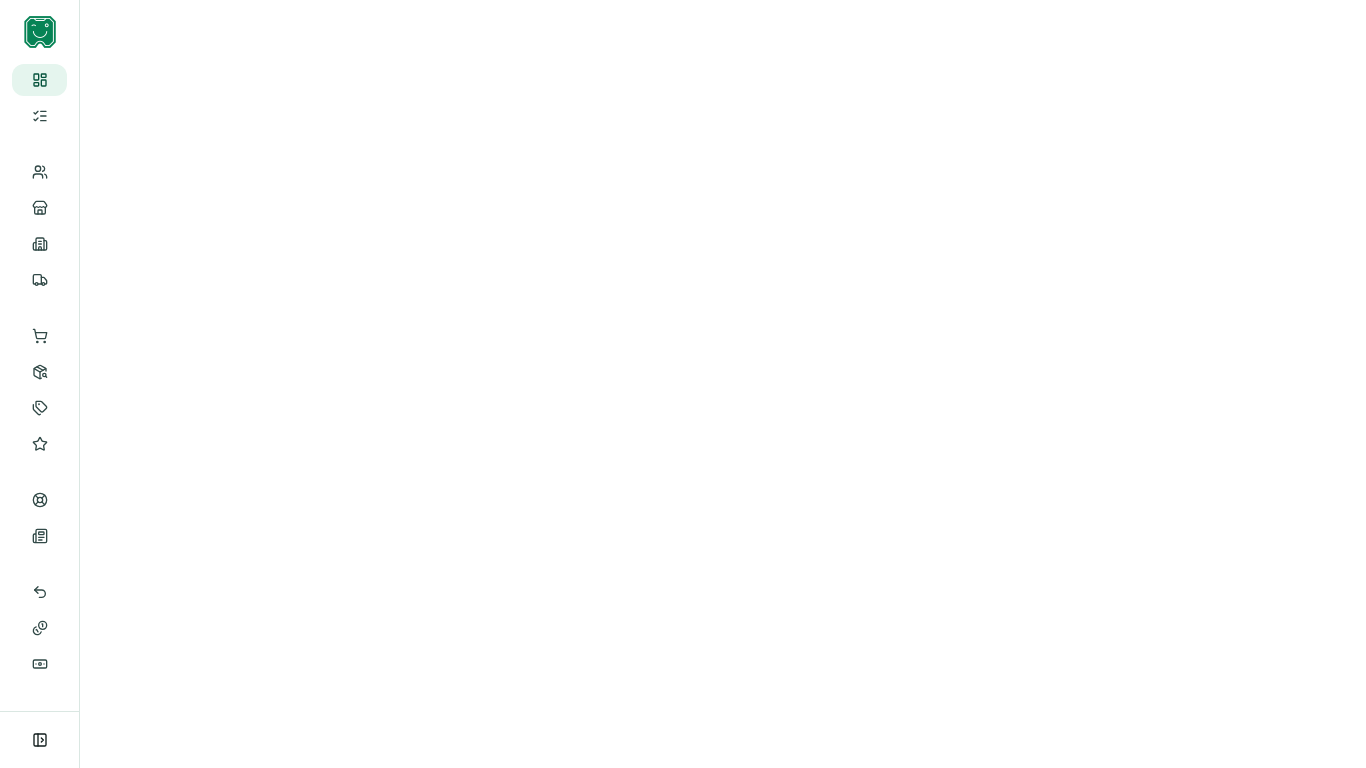
the collapsed rail › shows only the permitted children in the flyout
Hover over the link named "Money" at point(40, 664), box [32, 656, 48, 672]
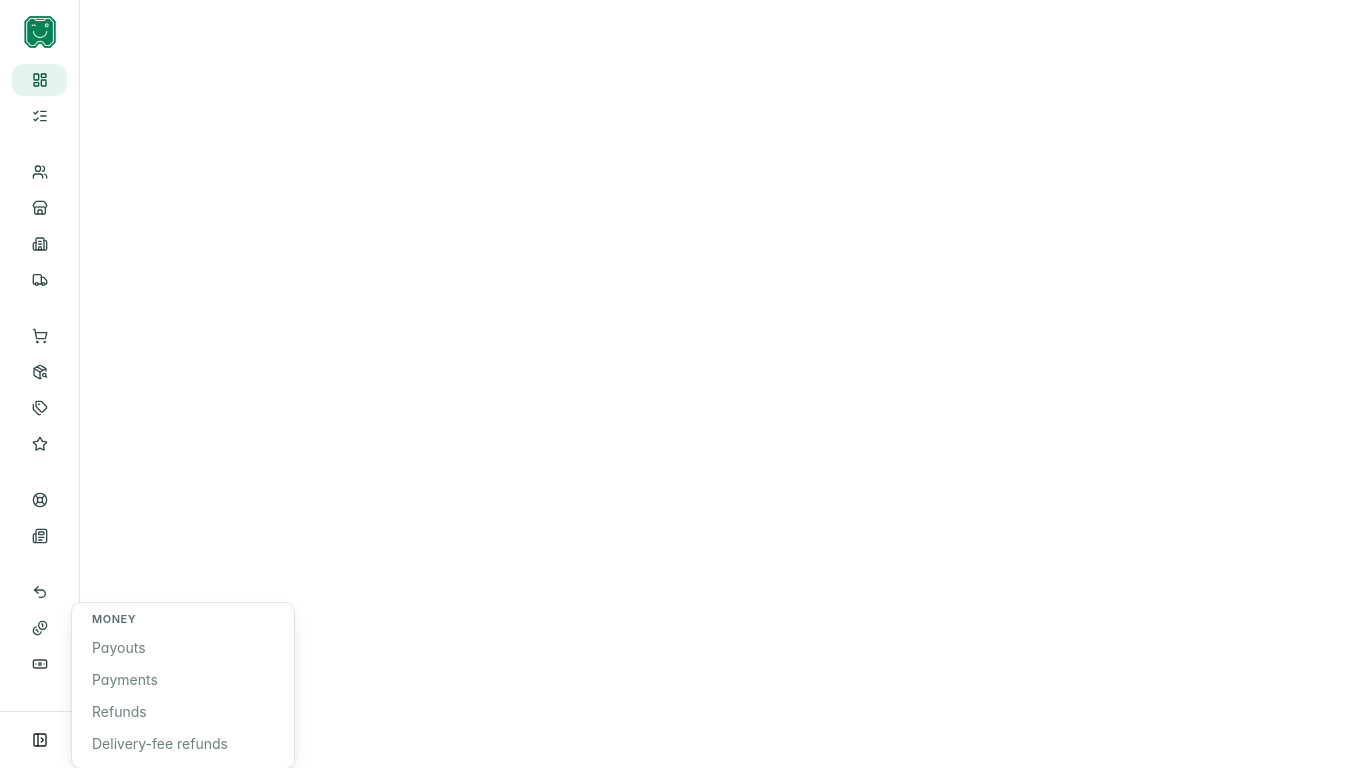
Now the link "Payments" is shown, box [92, 670, 158, 688]
